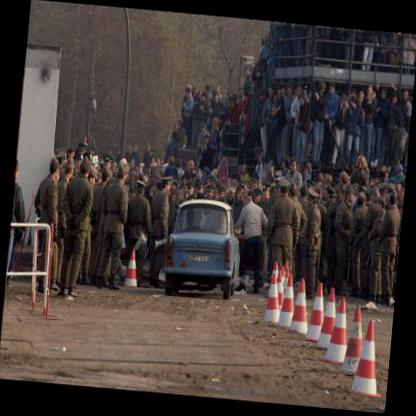cone: (350, 320, 388, 394), (340, 305, 371, 375), (326, 298, 352, 362), (319, 284, 340, 348), (289, 276, 313, 332), (306, 282, 328, 342), (278, 274, 300, 328), (125, 249, 142, 288)
